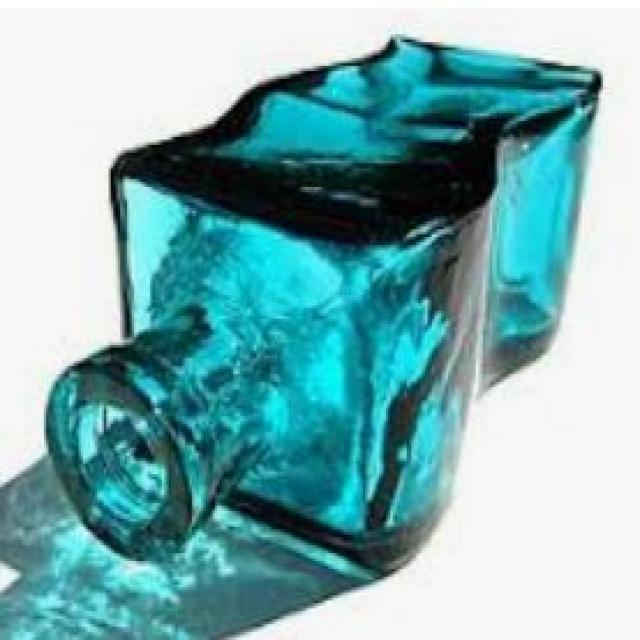electronic: (42, 29, 606, 583)
